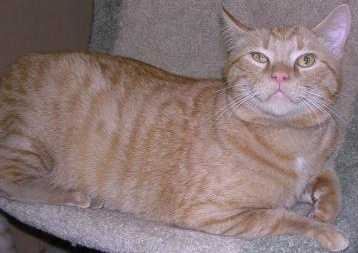Cat: (0, 7, 345, 250)
